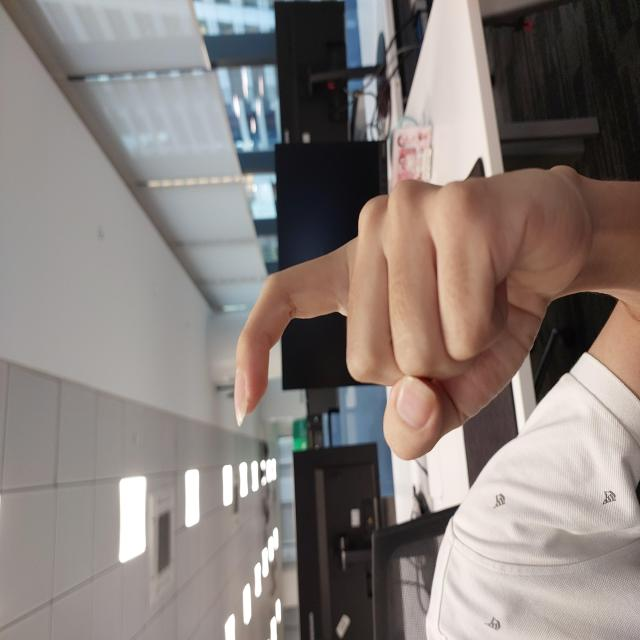X: (179, 234, 476, 588)
